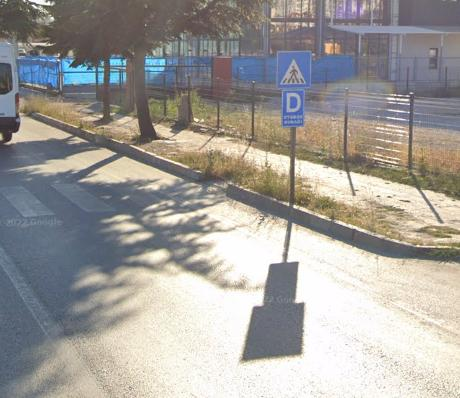station: (283, 91, 303, 115)
